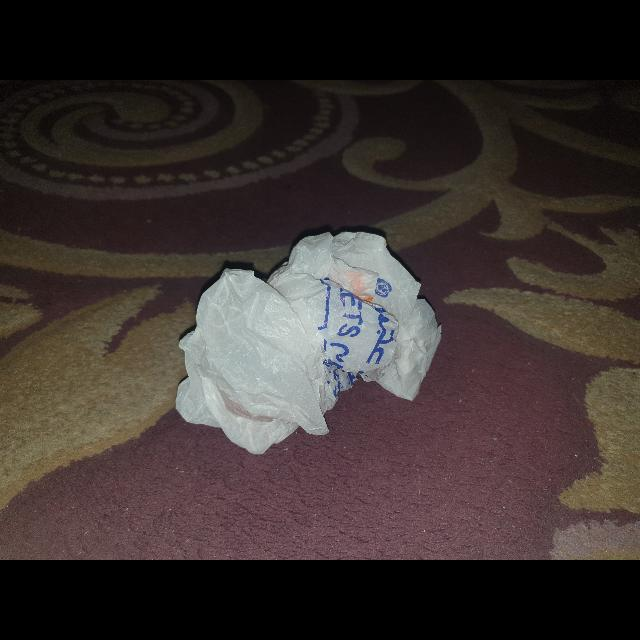plastic_bag: (164, 220, 448, 462)
